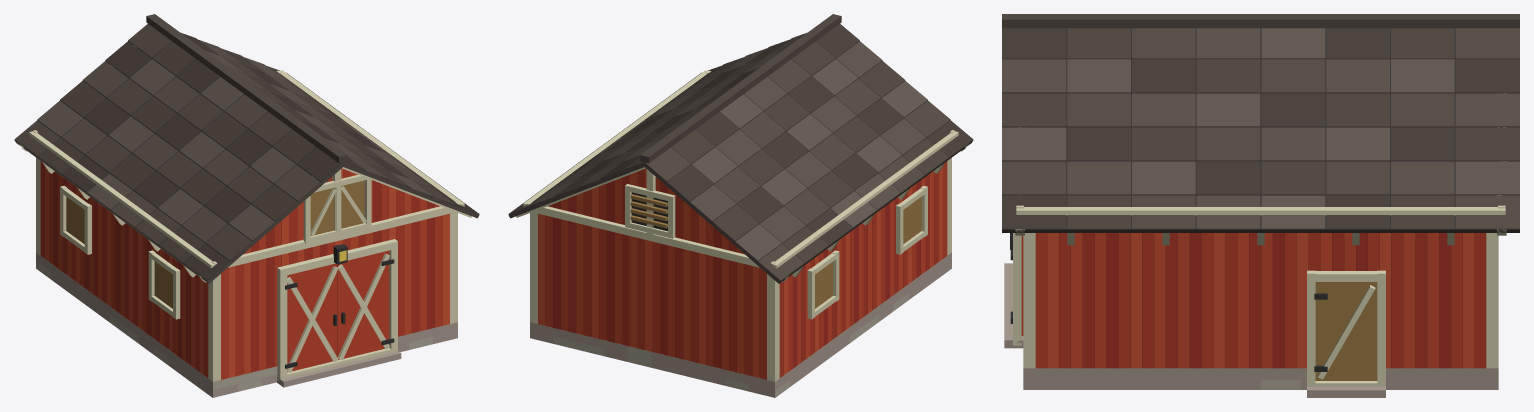
File: Barn_A_Medium.fbx
3 views of the same model, side by side, from view 1: azimuth 30°, elevation 25°; view 2: azimuth 150°, elevation 25°; view 3: azimuth 270°, elevation 25° (orthographic). The views are drawn at different scales.
Parts seen in each view (by area): view 1: Barn_A_Medium; view 2: Barn_A_Medium; view 3: Barn_A_Medium.
Boxes of the visible parts, x1,y1,x2,y2 form: Barn_A_Medium: (14, 14, 479, 397); Barn_A_Medium: (508, 14, 973, 397); Barn_A_Medium: (1002, 14, 1519, 397).
Size of the model in its own units: 8.9 by 6.8 by 10.9.
